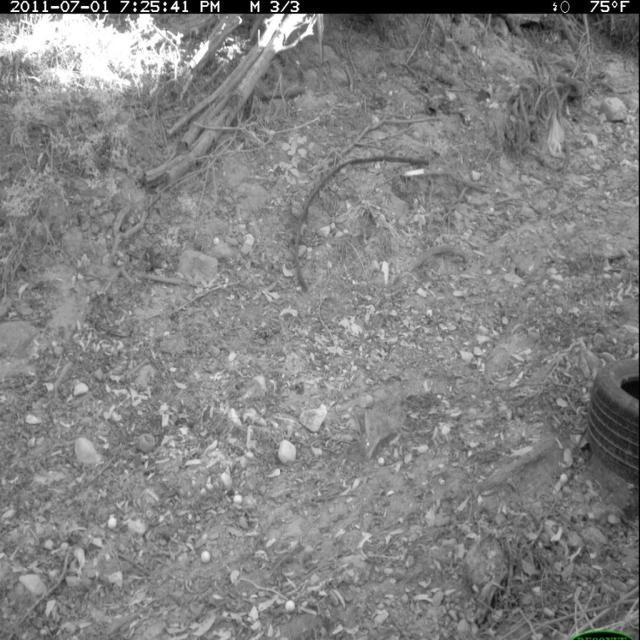rabbit: (351, 394, 413, 466)
